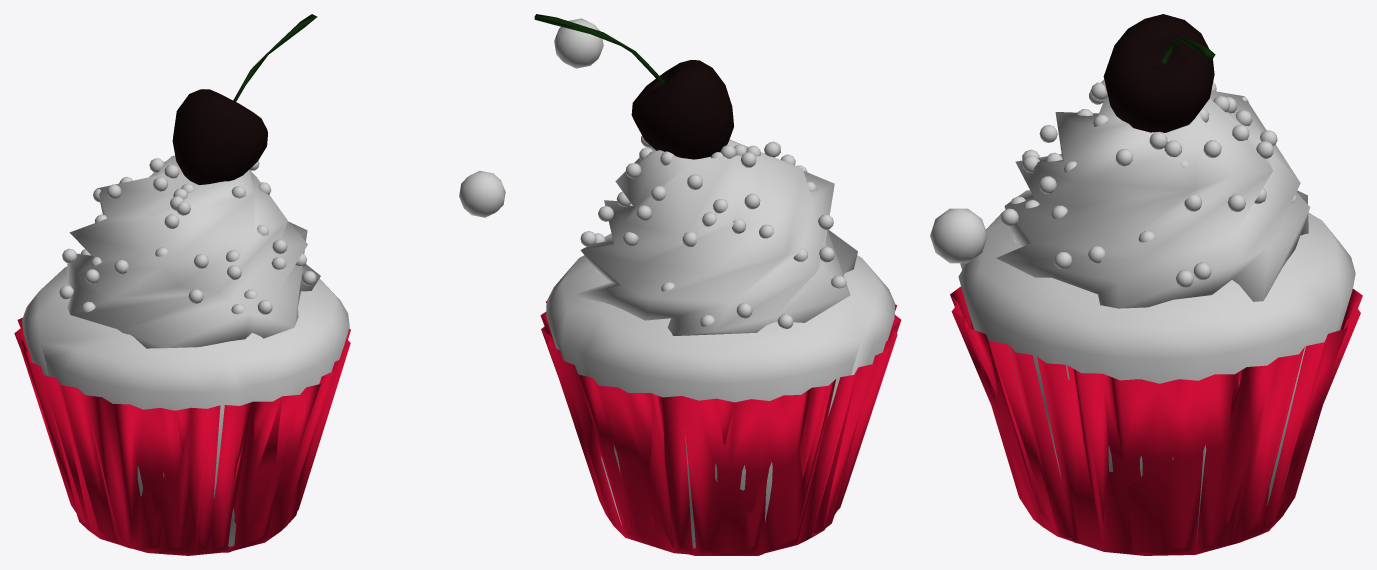
Rendered from simple_cupcake.obj.
3 renders of one model, left to right at view 1: azimuth 30°, elevation 25°; view 2: azimuth 150°, elevation 25°; view 3: azimuth 270°, elevation 25°, orthographic. The views are drawn at different scales.
Visible parts, largest first — view 1: Circle.003, Cylinder.001, Circle.002_Circle.000, Sphere.001, Icosphere; view 2: Circle.003, Cylinder.001, Circle.002_Circle.000, Sphere.001, Icosphere; view 3: Circle.003, Cylinder.001, Circle.002_Circle.000, Sphere.001, Icosphere.
Part boxes in pixels (bbox=[...]): Circle.003: bbox=[14, 317, 350, 555]; Cylinder.001: bbox=[66, 155, 320, 348]; Circle.002_Circle.000: bbox=[22, 266, 349, 546]; Sphere.001: bbox=[172, 14, 317, 184]; Icosphere: bbox=[59, 158, 505, 314]; Circle.003: bbox=[540, 301, 901, 555]; Cylinder.001: bbox=[574, 139, 857, 335]; Circle.002_Circle.000: bbox=[546, 255, 894, 548]; Sphere.001: bbox=[534, 14, 733, 159]; Icosphere: bbox=[554, 18, 846, 328]; Circle.003: bbox=[950, 286, 1362, 555]; Cylinder.001: bbox=[996, 90, 1310, 308]; Circle.002_Circle.000: bbox=[958, 212, 1355, 539]; Sphere.001: bbox=[1103, 14, 1215, 132]; Icosphere: bbox=[930, 79, 1296, 287].
Size of the model in its own units: 4.11 by 4.64 by 3.36.
